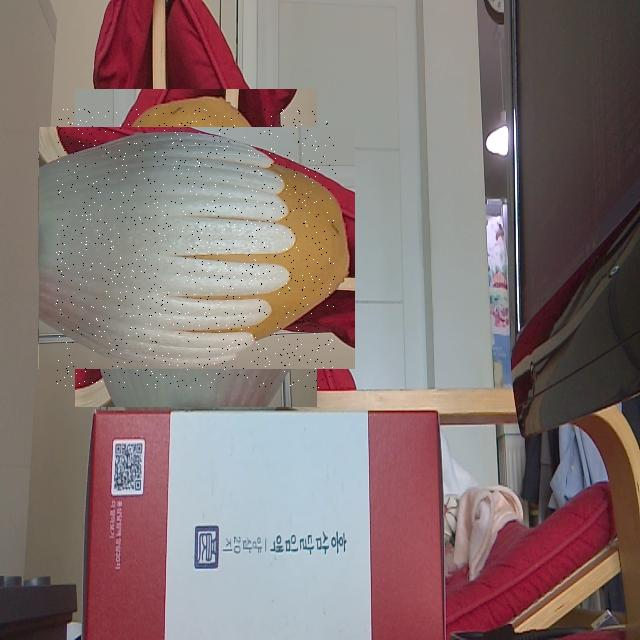pear: (56, 109, 336, 388)
